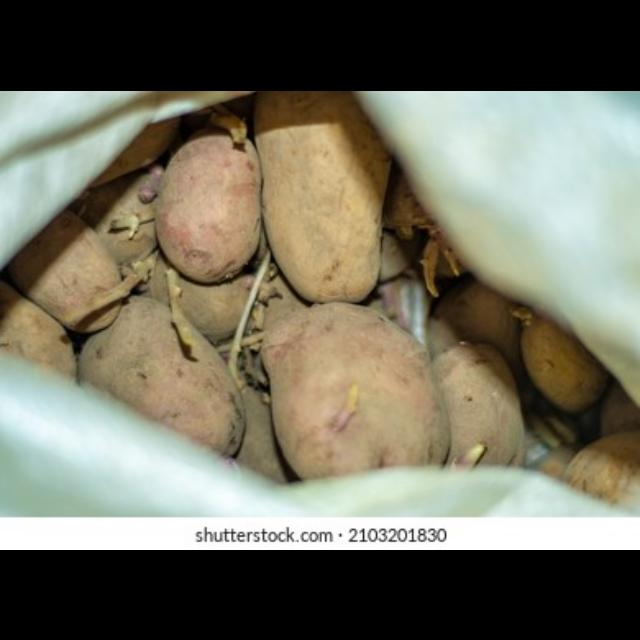Sprouted potato: (346, 92, 640, 342), (244, 247, 464, 486), (79, 266, 254, 464), (260, 92, 416, 308), (152, 106, 286, 290), (412, 308, 534, 478)
